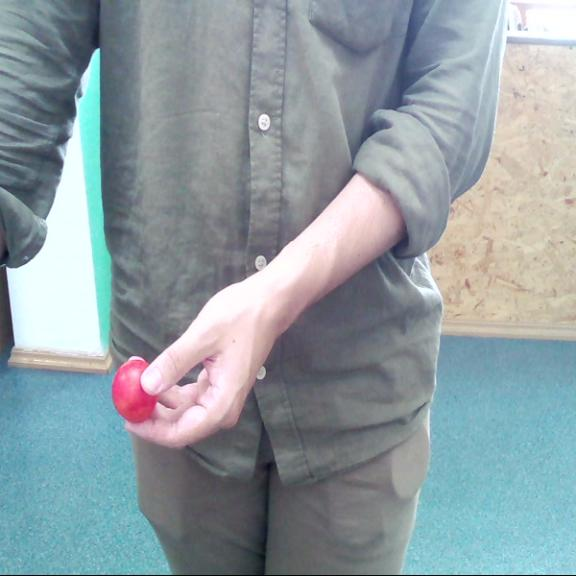ball: (112, 360, 158, 424)
